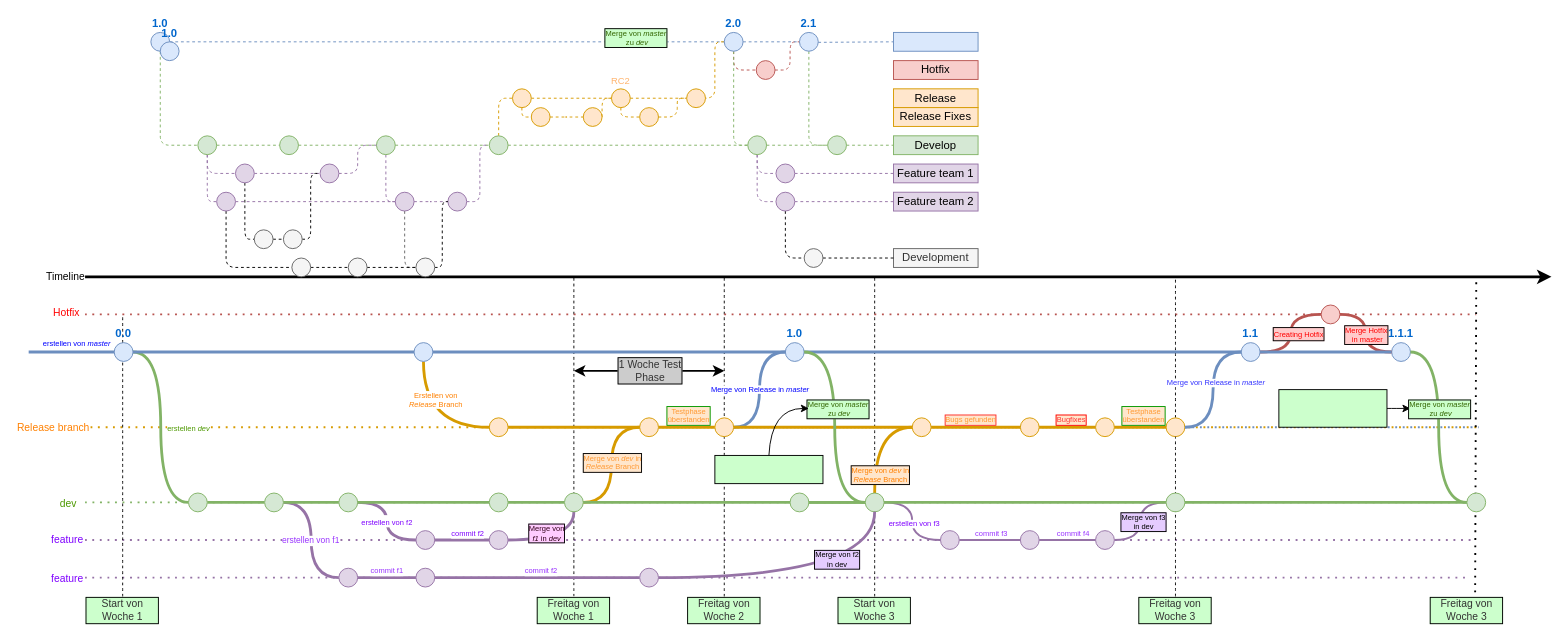
Image size: 1566x640. Some labels were removed from this diagram. The centre of each missing label's shape, as x and y in pixels:
"Die Änderungen vom Bug fix und Hotfixmüssen auch auf den dev" goes at pixel 1332 408.
"f1" goes at pixel 348 577.
"f2" goes at pixel 425 539.
"f3" goes at pixel 949 539.
"Hier wurden keine Änderungen gemacht also Leer Merge" goes at pixel 768 469.
"Master" goes at pixel 935 41.
"RC1" goes at pixel 521 98.
"RC3" goes at pixel 695 98.
